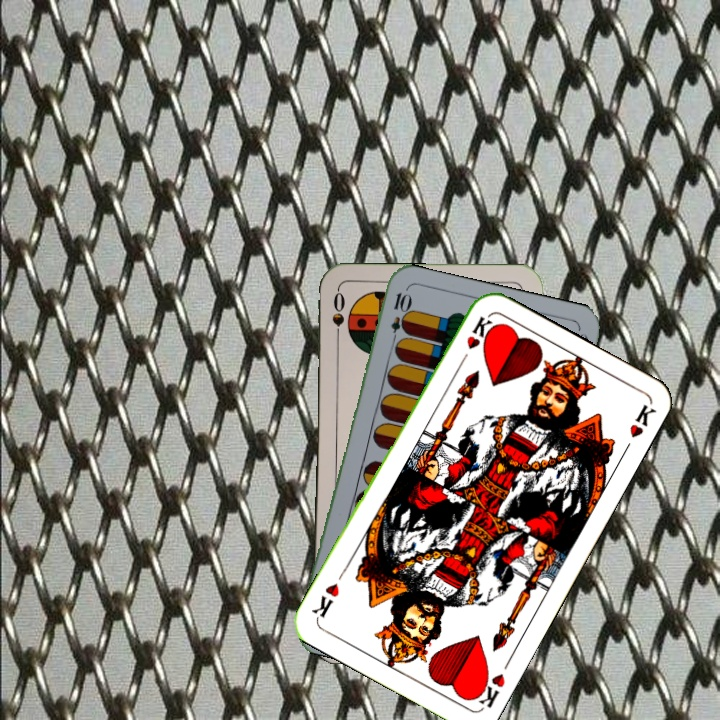E10: (386, 288, 411, 348)
HK: (455, 312, 495, 367), (468, 667, 508, 711)
SO: (328, 288, 347, 347)
